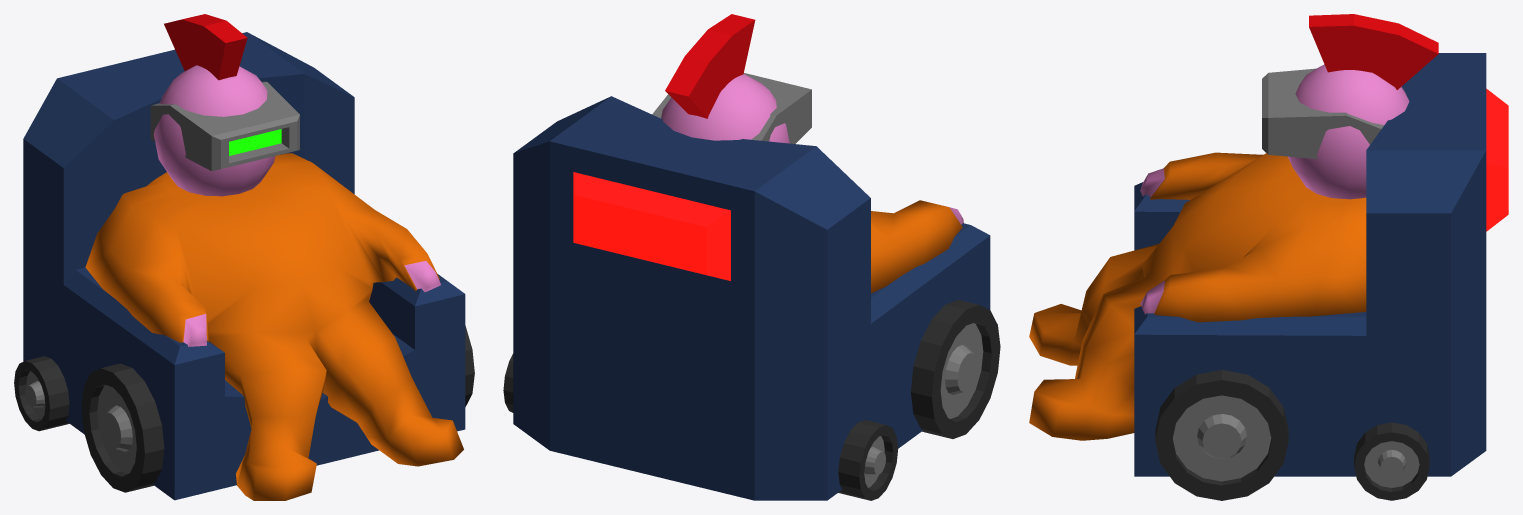
Rendered from human-v1.glb.
The picture shows the model from 3 angles, left to right: view 1: azimuth 30°, elevation 25°; view 2: azimuth 150°, elevation 25°; view 3: azimuth 270°, elevation 25°; orthographic projection. The views are drawn at different scales.
Parts seen in each view (by area): view 1: Human-v1; view 2: Human-v1; view 3: Human-v1.
Part boxes in pixels (left/top/right/bottom): Human-v1: left=14, top=14, right=474, bottom=500; Human-v1: left=503, top=14, right=1000, bottom=500; Human-v1: left=1029, top=14, right=1508, bottom=500.
Size of the model in its own units: 0.9085 by 0.9883 by 1.08.
